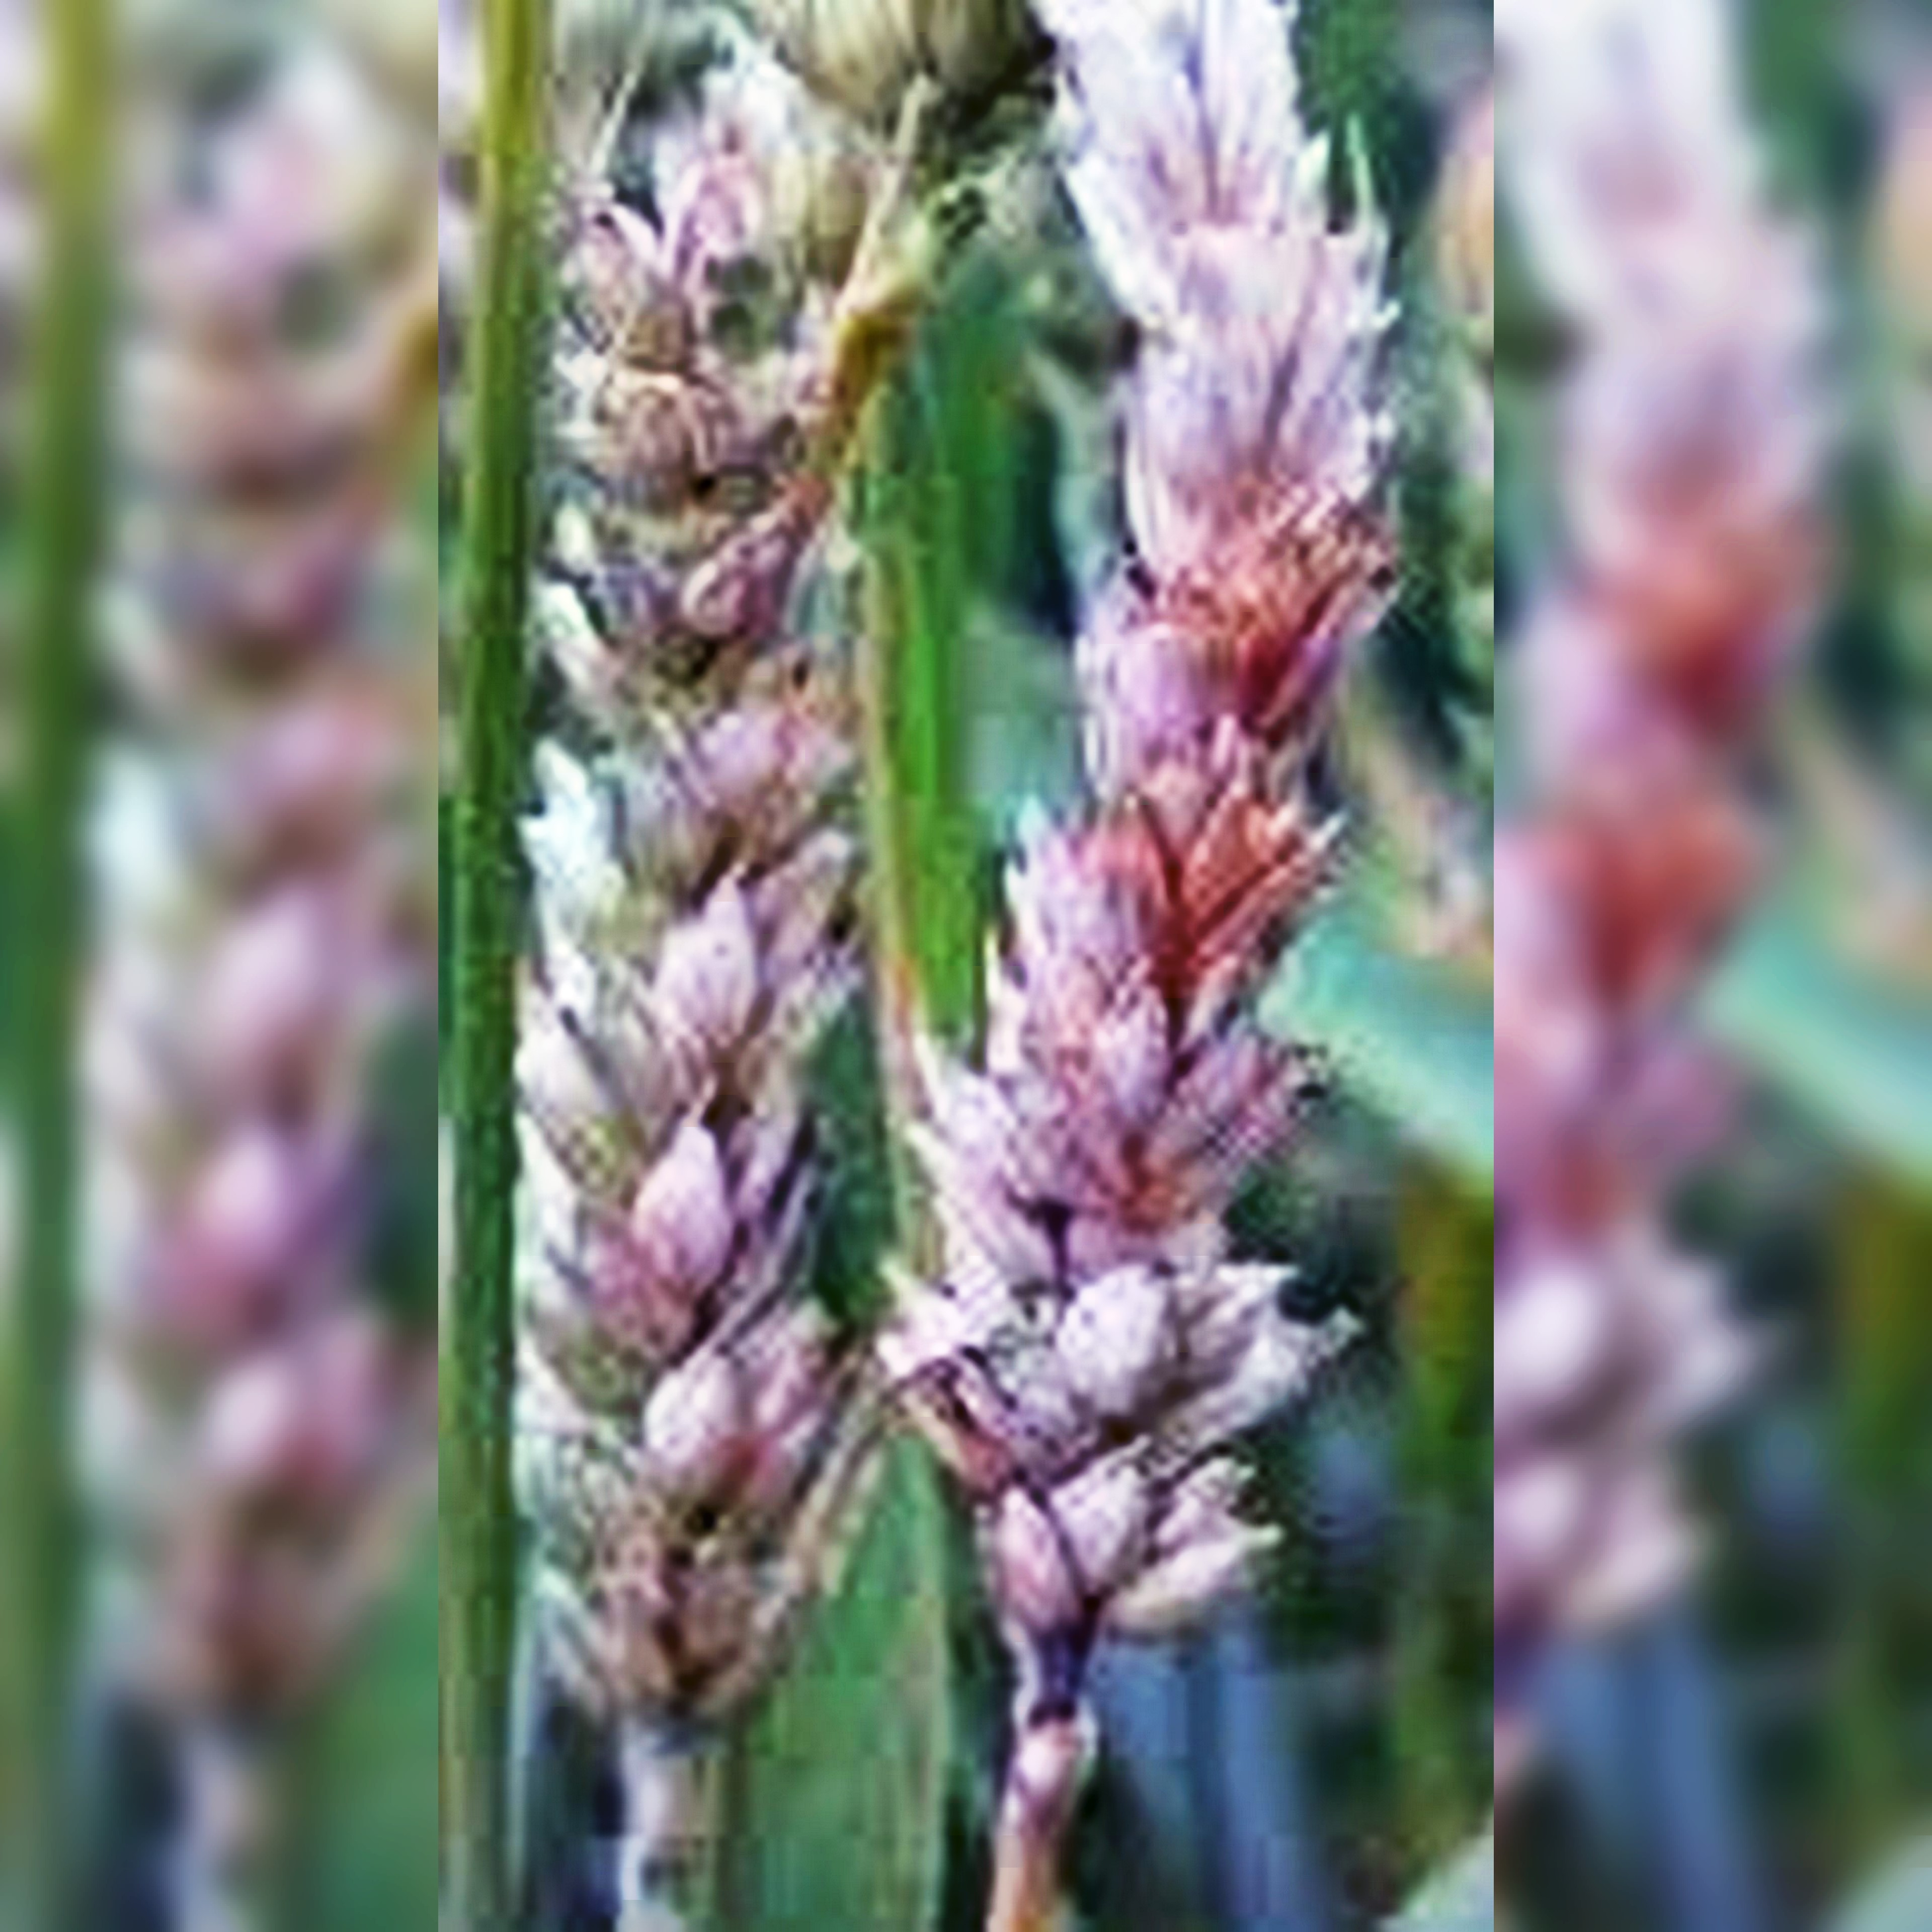Wheat scab: (947, 99, 1430, 1748)
